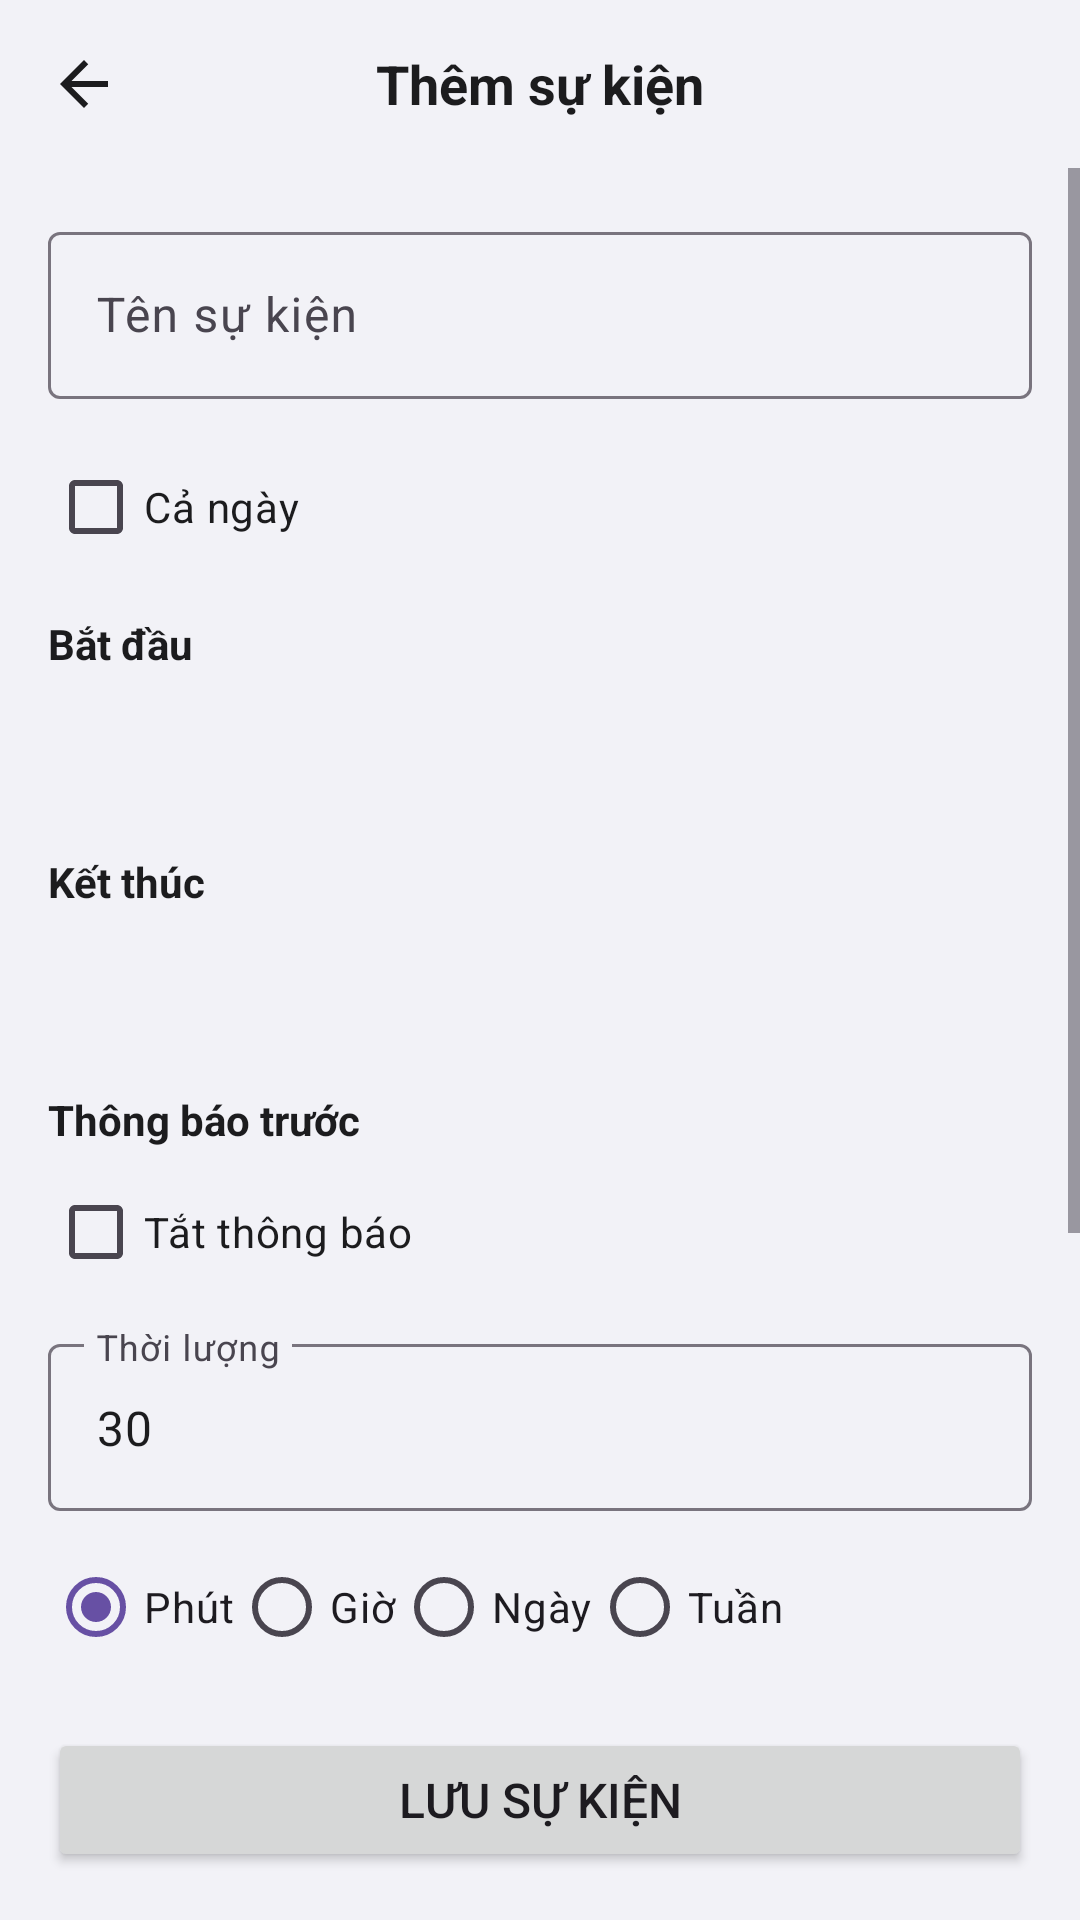

Icon click points for this 1080*1920 phone screenshot, format (x,y):
Quay lại: (84,84)
